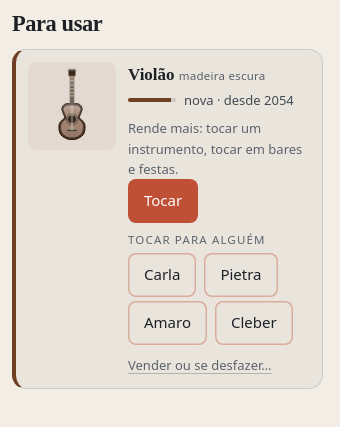
it: as lojas das coisas da vida › REWORK 4: o que é seu aparece em Pertences — primeiro o que dá para fazer, a venda por último
Expected: the text "Violão" is shown, [128,65,175,84]
Expected: the text "nova · desde 2054" is shown, [128,90,310,110]
Click the button "Vender ou se desfazer…". click: (200, 364)
box: [128,348,272,380]
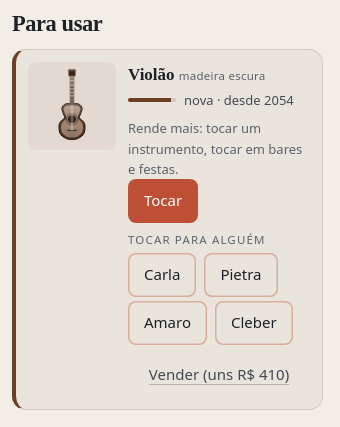
Expected: the button "Vender (uns R$ 410)" is shown, [128,352,310,396]
